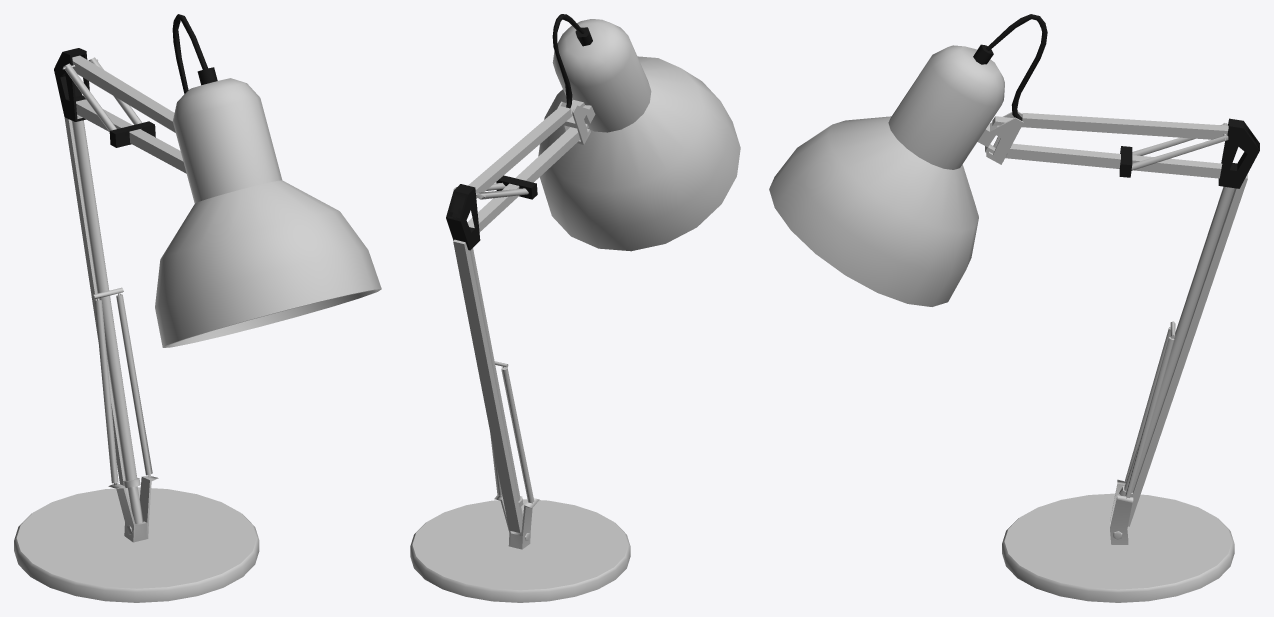
File: LightTable06_1.FBX
The picture shows the model from 3 angles, left to right: view 1: azimuth 30°, elevation 25°; view 2: azimuth 150°, elevation 25°; view 3: azimuth 270°, elevation 25°; orthographic projection. The views are drawn at different scales.
Visible parts, largest first — view 1: LightTable06_1; view 2: LightTable06_1; view 3: LightTable06_1.
Part boxes in pixels (bbox=[...]): LightTable06_1: bbox=[14, 14, 381, 602]; LightTable06_1: bbox=[410, 14, 740, 602]; LightTable06_1: bbox=[769, 14, 1259, 602].
Bounding box in the file's own units: 19.74 × 50.58 × 41.67.
